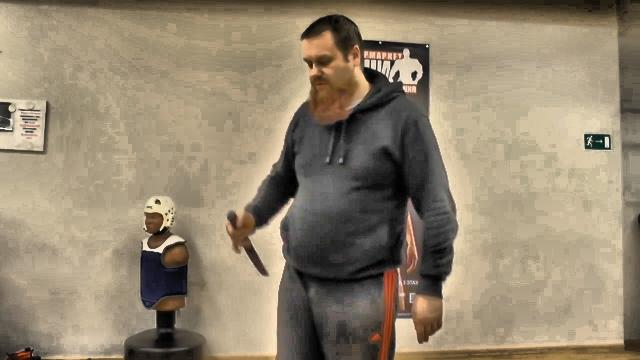knife: (225, 209, 271, 279)
